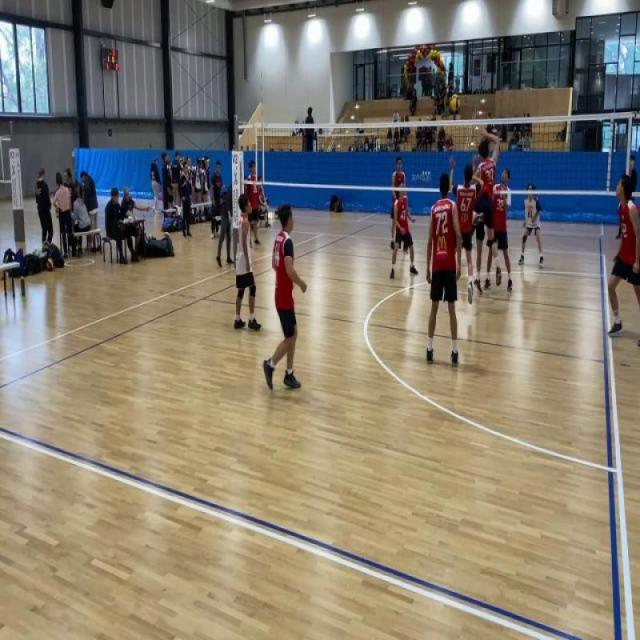volleyball: (449, 92, 461, 112), (46, 257, 54, 272), (55, 203, 60, 214), (163, 231, 170, 238), (148, 233, 154, 241)
